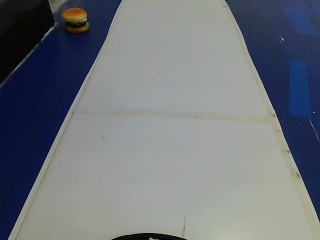burger: (50, 1, 94, 37)
